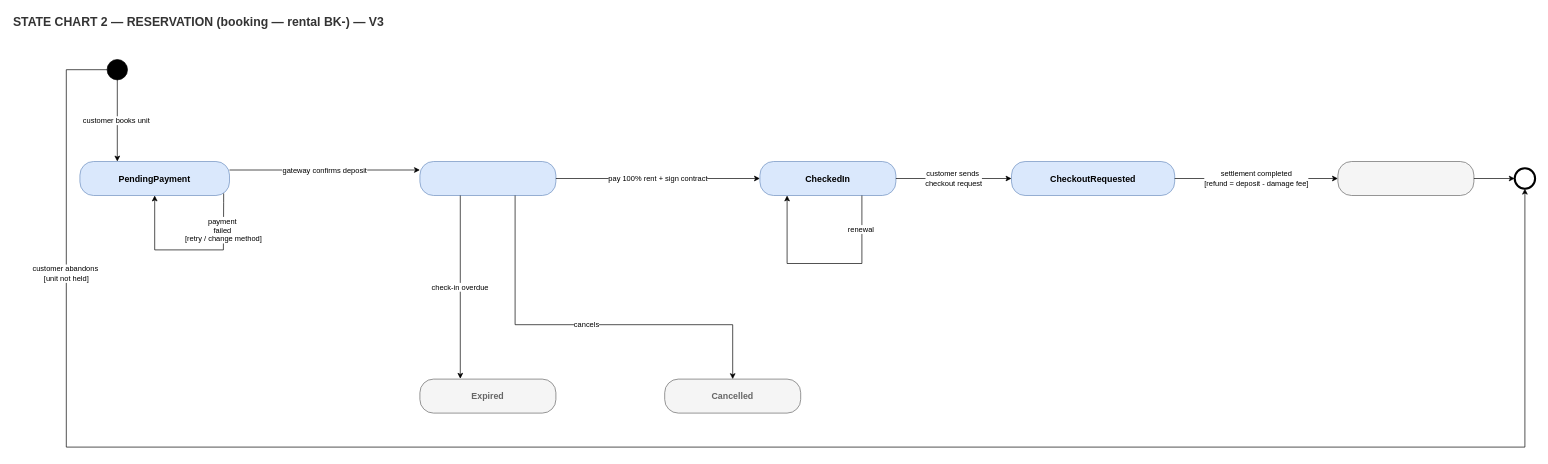
The diagram is 1548 pixels wide and 464 high, and some of its shapes have lost their labels. The shapes that lost their labels are listed below. From the top down, each one's centre as x and y in pixels, then its label:
the point at 487,178: Reserved
the point at 1405,178: Closed
